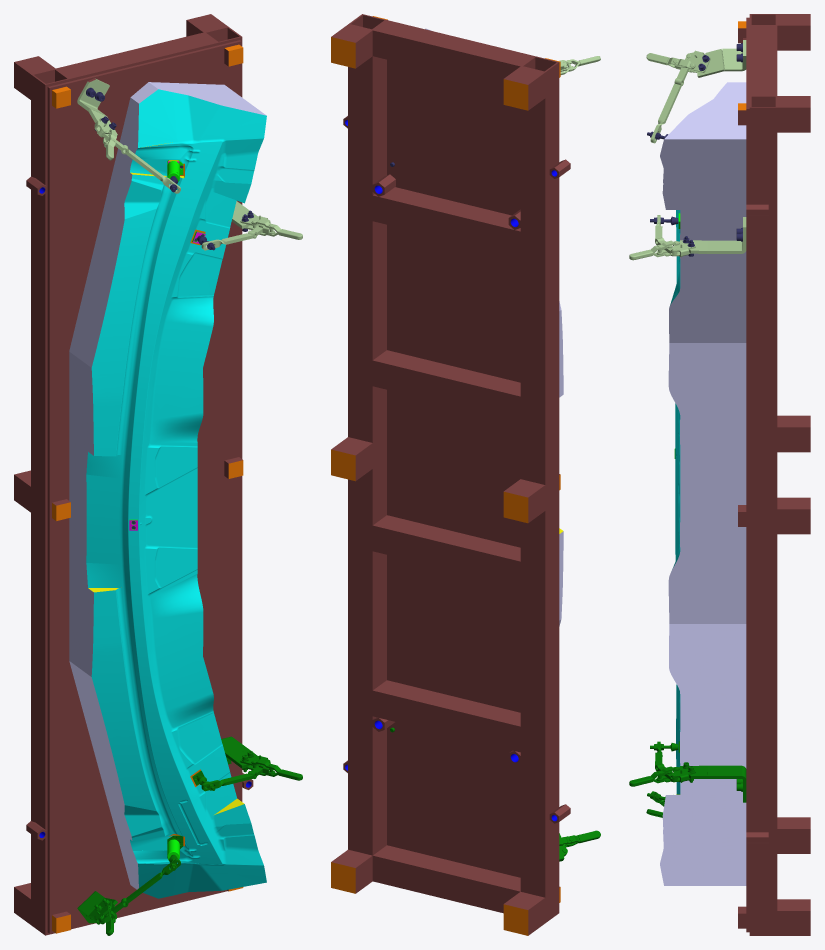
The model's file is FS146036_55711-48120-K00_260611_KEN.obj.
The picture shows the model from 3 angles, left to right: view 1: azimuth 30°, elevation 25°; view 2: azimuth 150°, elevation 25°; view 3: azimuth 270°, elevation 25°; orthographic projection. The views are drawn at different scales.
Visible parts, largest first — view 1: Shell_029, Shell_000, Shell_007, Shell_012, Shell_008, Shell_020; view 2: Shell_000, Shell_007, Shell_008, Shell_010, Shell_011, Shell_014, Shell_012, Shell_013, Shell_009, Shell_016, Shell_017, Shell_020 (+4 smaller); view 3: Shell_029, Shell_008, Shell_000, Shell_012, Shell_017, Shell_018, Shell_015, Shell_016, Shell_019, Shell_020, Shell_169, Shell_082 (+4 smaller).
Boxes of the visible parts, <box> form: Shell_029: <box>69,82,266,898</box>; Shell_000: <box>47,40,241,933</box>; Shell_007: <box>31,68,69,935</box>; Shell_012: <box>56,32,217,81</box>; Shell_008: <box>204,26,242,893</box>; Shell_020: <box>14,56,55,99</box>; Shell_000: <box>387,59,520,877</box>; Shell_007: <box>520,56,559,922</box>; Shell_008: <box>348,14,386,855</box>; Shell_010: <box>372,680,520,752</box>; Shell_011: <box>372,515,520,587</box>; Shell_014: <box>372,350,520,422</box>; Shell_012: <box>372,20,534,87</box>; Shell_013: <box>372,187,520,257</box>; Shell_009: <box>372,845,520,913</box>; Shell_016: <box>503,891,545,935</box>; Shell_017: <box>503,479,545,523</box>; Shell_020: <box>503,66,545,110</box>; Shell_029: <box>660,82,746,885</box>; Shell_008: <box>749,96,777,935</box>; Shell_000: <box>746,17,749,932</box>; Shell_012: <box>749,25,777,95</box>; Shell_017: <box>777,415,810,452</box>; Shell_018: <box>777,497,810,534</box>; Shell_015: <box>777,899,810,935</box>; Shell_016: <box>777,817,810,853</box>; Shell_019: <box>777,96,810,132</box>; Shell_020: <box>777,14,810,50</box>; Shell_169: <box>707,765,746,802</box>; Shell_082: <box>707,217,746,253</box>.
Bounding box in the file's own units: 438 × 1650 × 328.
